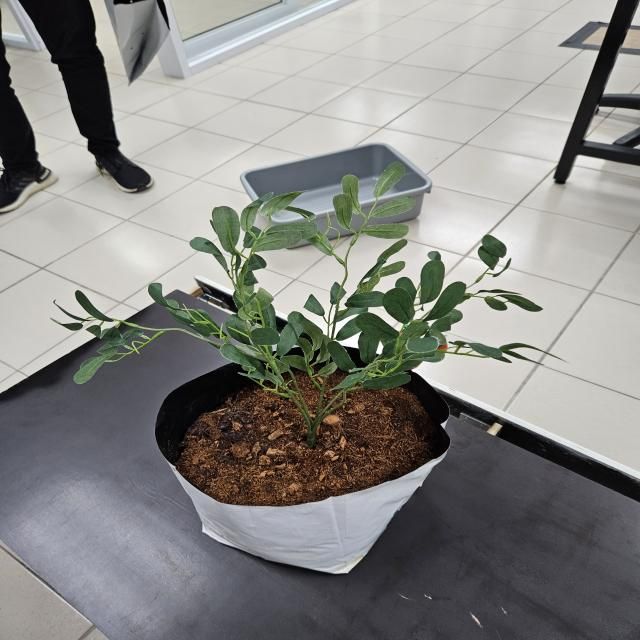Soilbag: (154, 363, 451, 576)
plant: (190, 163, 567, 441)
